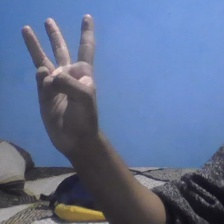W: (20, 11, 106, 157)
